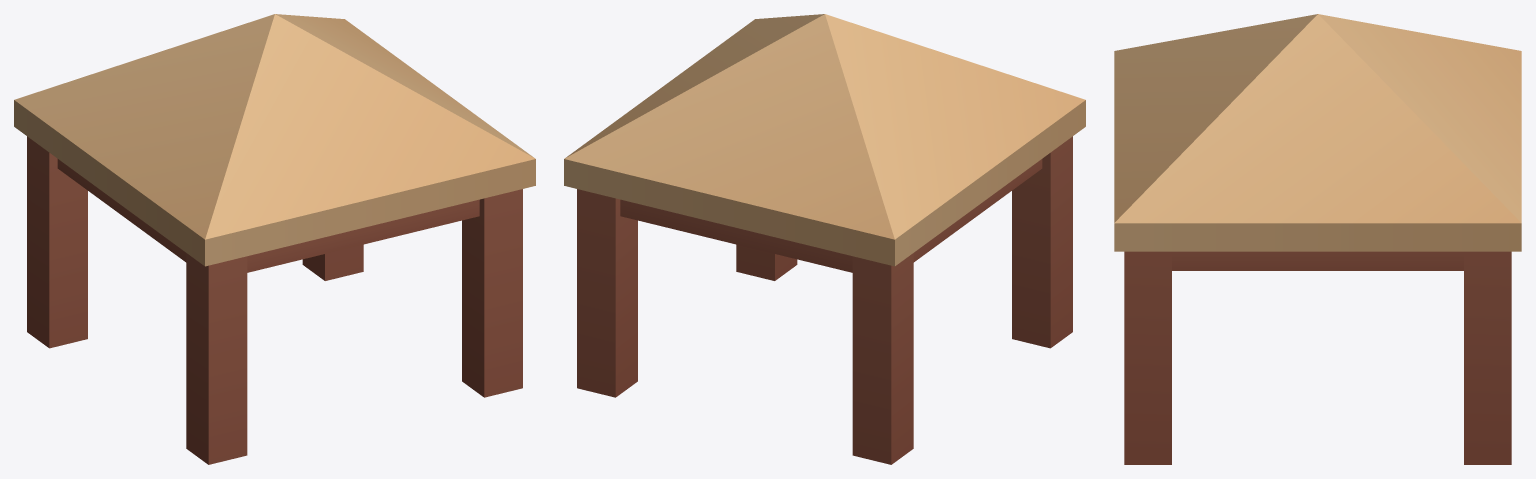
File: tent.gltf
3 views of the same model, side by side, from view 1: azimuth 30°, elevation 25°; view 2: azimuth 150°, elevation 25°; view 3: azimuth 270°, elevation 25° (orthographic). The views are drawn at different scales.
Visible parts, largest first — view 1: tent; view 2: tent; view 3: tent.
Part boxes in pixels (<box>): tent: <box>14,14,535,464</box>; tent: <box>564,14,1085,464</box>; tent: <box>1114,14,1521,464</box>.
Bounding box in the file's own units: 0.516 × 0.516 × 0.516.
1 material, 1 textured.
